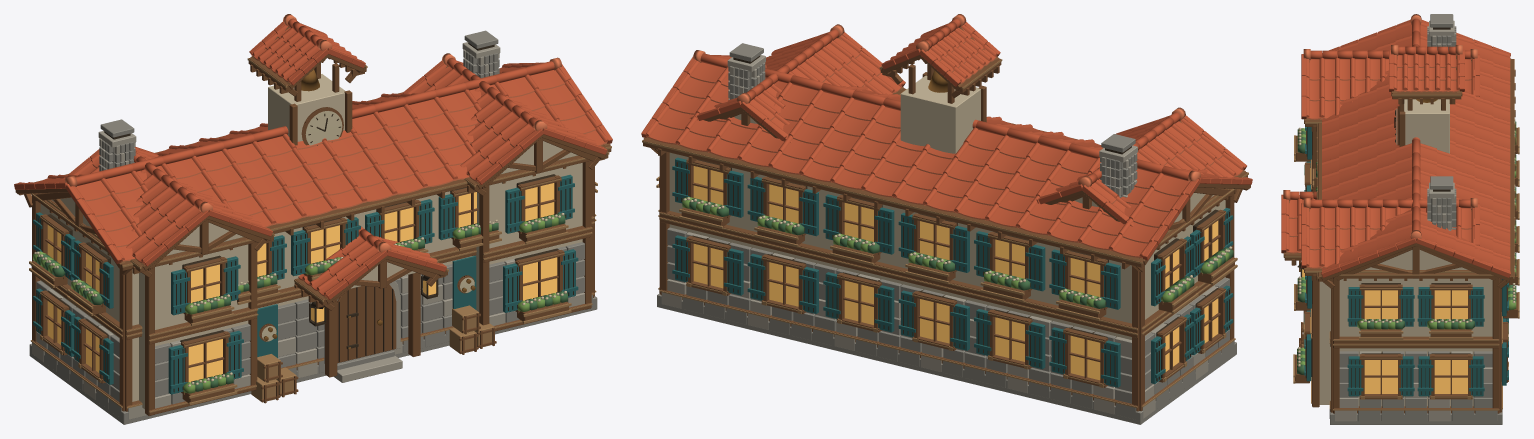
The picture shows the model from 3 angles, left to right: view 1: azimuth 30°, elevation 25°; view 2: azimuth 150°, elevation 25°; view 3: azimuth 270°, elevation 25°; orthographic projection. The views are drawn at different scales.
Visible parts, largest first — view 1: alpine_finance_2_geometry, alpine_finance_2_geometry ceramic; view 2: alpine_finance_2_geometry, alpine_finance_2_geometry ceramic; view 3: alpine_finance_2_geometry, alpine_finance_2_geometry ceramic.
Part boxes in pixels (left/top/right/bottom): alpine_finance_2_geometry: left=15, top=27, right=611, bottom=424; alpine_finance_2_geometry ceramic: left=14, top=14, right=612, bottom=299; alpine_finance_2_geometry: left=642, top=27, right=1250, bottom=424; alpine_finance_2_geometry ceramic: left=641, top=14, right=1252, bottom=260; alpine_finance_2_geometry: left=1283, top=14, right=1519, bottom=424; alpine_finance_2_geometry ceramic: left=1281, top=14, right=1510, bottom=277.
Bounding box in the file's own units: 2.28 × 1.29 × 1.02.
